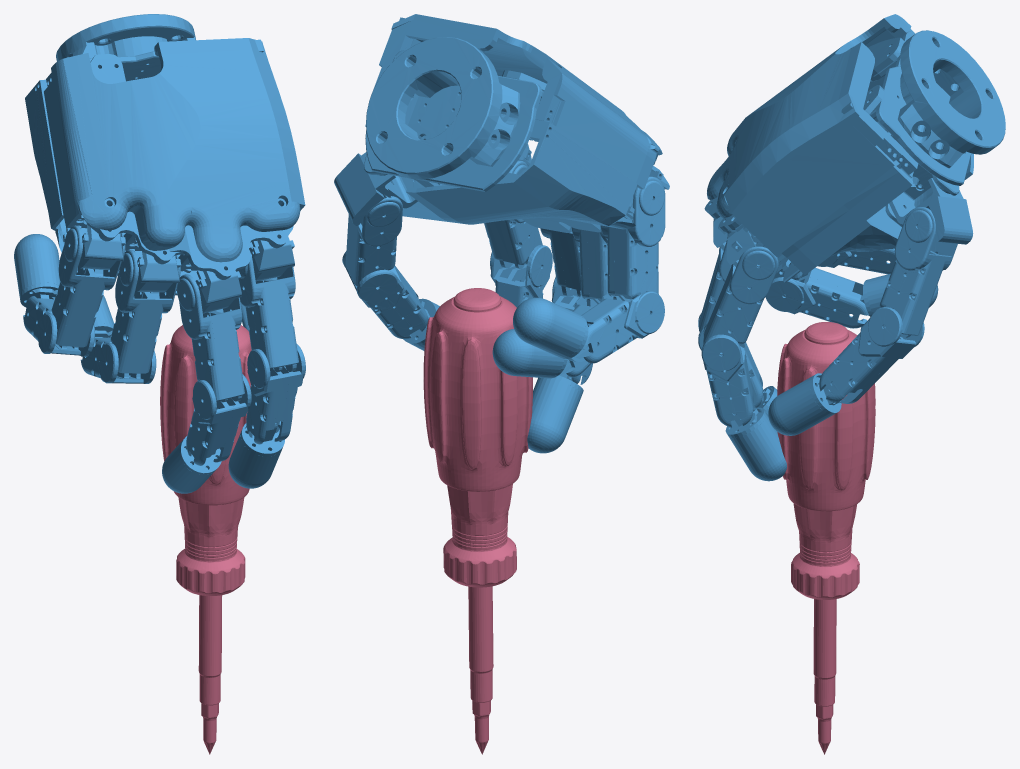
3 views of the same model, side by side, from view 1: azimuth 30°, elevation 25°; view 2: azimuth 150°, elevation 25°; view 3: azimuth 270°, elevation 25° (orthographic). The views are drawn at different scales.
Visible parts, largest first — view 1: 0; view 2: 0; view 3: 0.
Part boxes in pixels (box(x1,y1,x2,y2)): 0: box(14, 14, 305, 754); 0: box(334, 14, 669, 754); 0: box(698, 14, 1005, 754).
Size of the model in its own units: 0.1351 by 0.352 by 0.1394.
